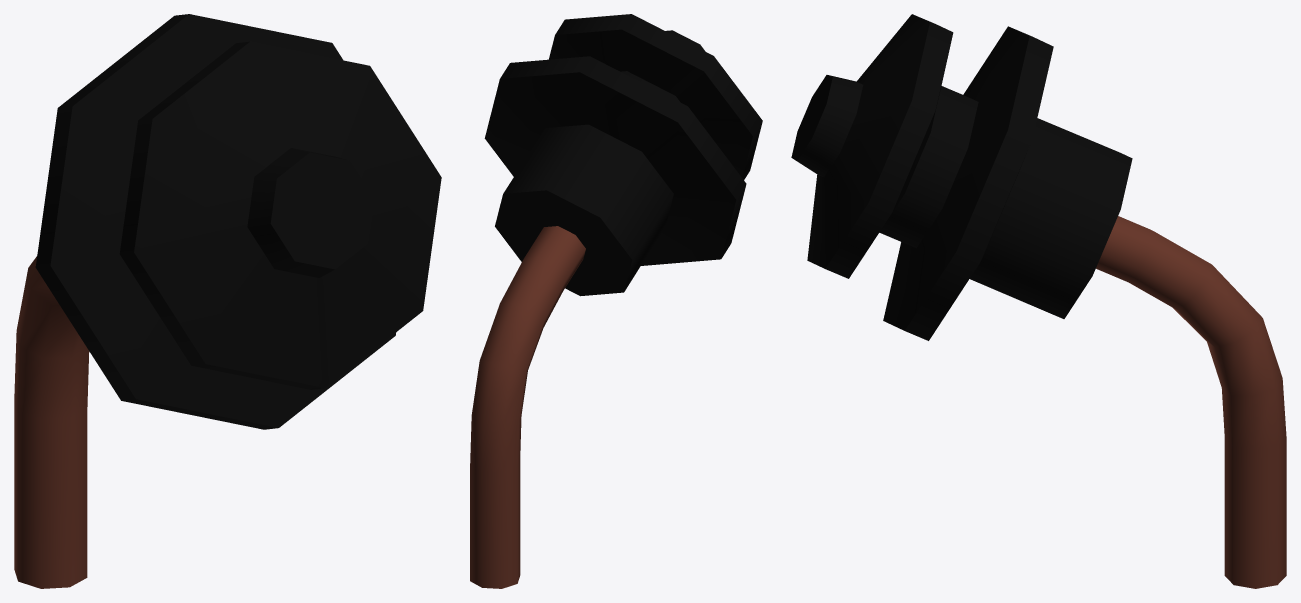
File: hook-twisted-10.FBX
The picture shows the model from 3 angles, left to right: view 1: azimuth 30°, elevation 25°; view 2: azimuth 150°, elevation 25°; view 3: azimuth 270°, elevation 25°; orthographic projection. The views are drawn at different scales.
Visible parts, largest first — view 1: Podkos005; view 2: Podkos005; view 3: Podkos005.
Boxes of the visible parts, x1,y1,x2,y2 form: Podkos005: (14,14,441,588); Podkos005: (470,14,762,588); Podkos005: (791,14,1286,588).
Size of the model in its own units: 0.1798 by 0.317 by 0.257.
